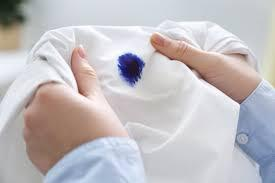ink: (119, 54, 144, 83)
